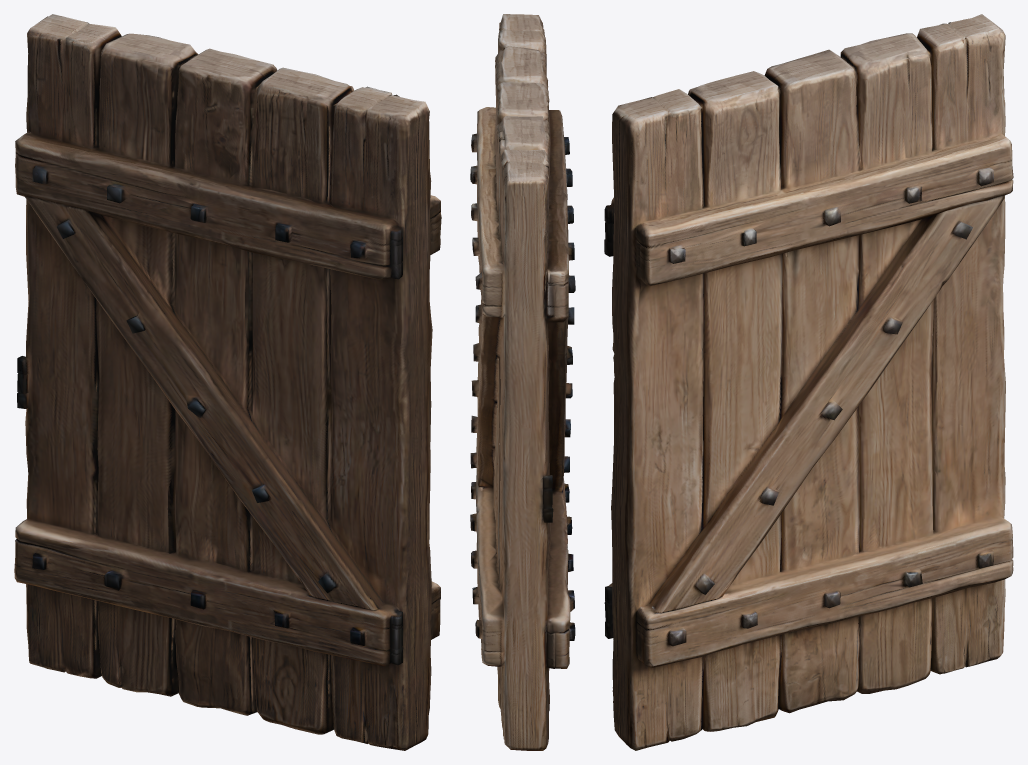
The picture shows the model from 3 angles, left to right: view 1: azimuth 30°, elevation 25°; view 2: azimuth 150°, elevation 25°; view 3: azimuth 270°, elevation 25°; orthographic projection. The views are drawn at different scales.
Parts seen in each view (by area): view 1: tripo_node_554189ac-639c-4565-ae7c-b715b6505420; view 2: tripo_node_554189ac-639c-4565-ae7c-b715b6505420; view 3: tripo_node_554189ac-639c-4565-ae7c-b715b6505420.
Boxes of the visible parts, left/top/right/bottom form: tripo_node_554189ac-639c-4565-ae7c-b715b6505420: left=14, top=14, right=441, bottom=750; tripo_node_554189ac-639c-4565-ae7c-b715b6505420: left=470, top=14, right=575, bottom=750; tripo_node_554189ac-639c-4565-ae7c-b715b6505420: left=604, top=14, right=1013, bottom=750.
Size of the model in its own units: 0.4204 by 0.9773 by 0.5742.
Materials: 1 (1 with a texture image).
